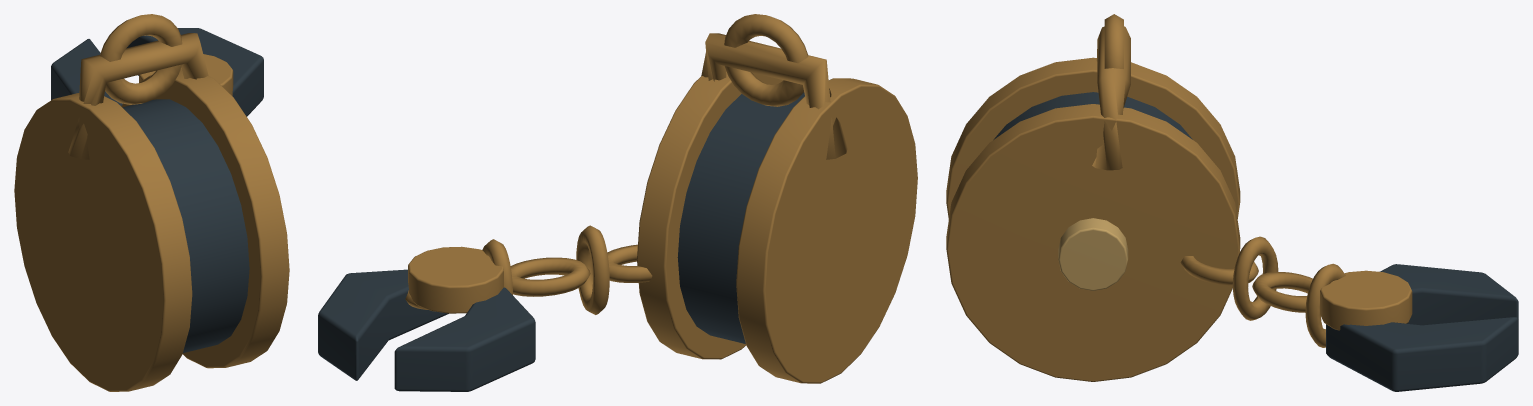
Rendered from executioner_pulley.glb.
3 renders of one model, left to right at view 1: azimuth 30°, elevation 25°; view 2: azimuth 150°, elevation 25°; view 3: azimuth 270°, elevation 25°, orthographic. The views are drawn at different scales.
Parts seen in each view (by area): view 1: SM_executioner_pulley; view 2: SM_executioner_pulley; view 3: SM_executioner_pulley.
Part boxes in pixels (left/top/right/bottom): SM_executioner_pulley: left=14, top=14, right=289, bottom=391; SM_executioner_pulley: left=318, top=14, right=917, bottom=391; SM_executioner_pulley: left=946, top=14, right=1518, bottom=391.
Size of the model in its own units: 0.2742 by 0.264 by 0.409.
